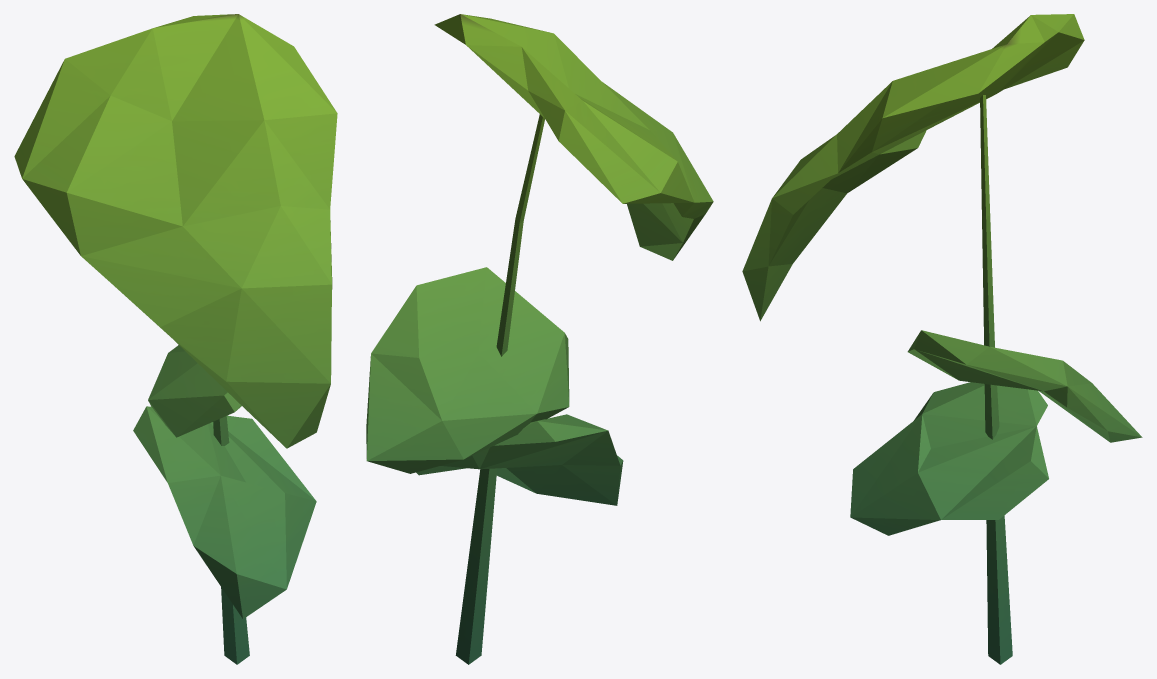
The model's file is ZLP_Grass_D_1.FBX.
3 views of the same model, side by side, from view 1: azimuth 30°, elevation 25°; view 2: azimuth 150°, elevation 25°; view 3: azimuth 270°, elevation 25° (orthographic). The views are drawn at different scales.
Parts seen in each view (by area): view 1: ZLP_Grass_D_1; view 2: ZLP_Grass_D_1; view 3: ZLP_Grass_D_1.
Part boxes in pixels (box(x1,y1,x2,y2)): ZLP_Grass_D_1: box(14, 14, 337, 664); ZLP_Grass_D_1: box(366, 14, 713, 664); ZLP_Grass_D_1: box(742, 14, 1142, 664).
Size of the model in its own units: 59.04 by 135 by 79.42.
